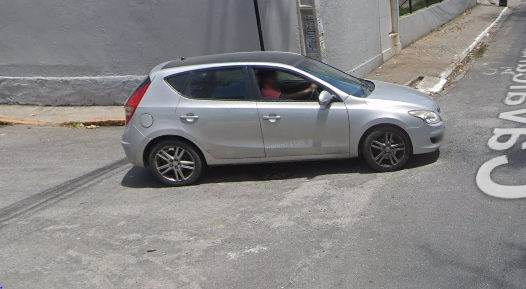car: (119, 48, 447, 190)
